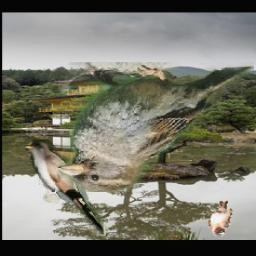Cuckoo: (24, 140, 108, 236)
Sparrow: (57, 62, 253, 192)
Swallow: (207, 201, 232, 237)
